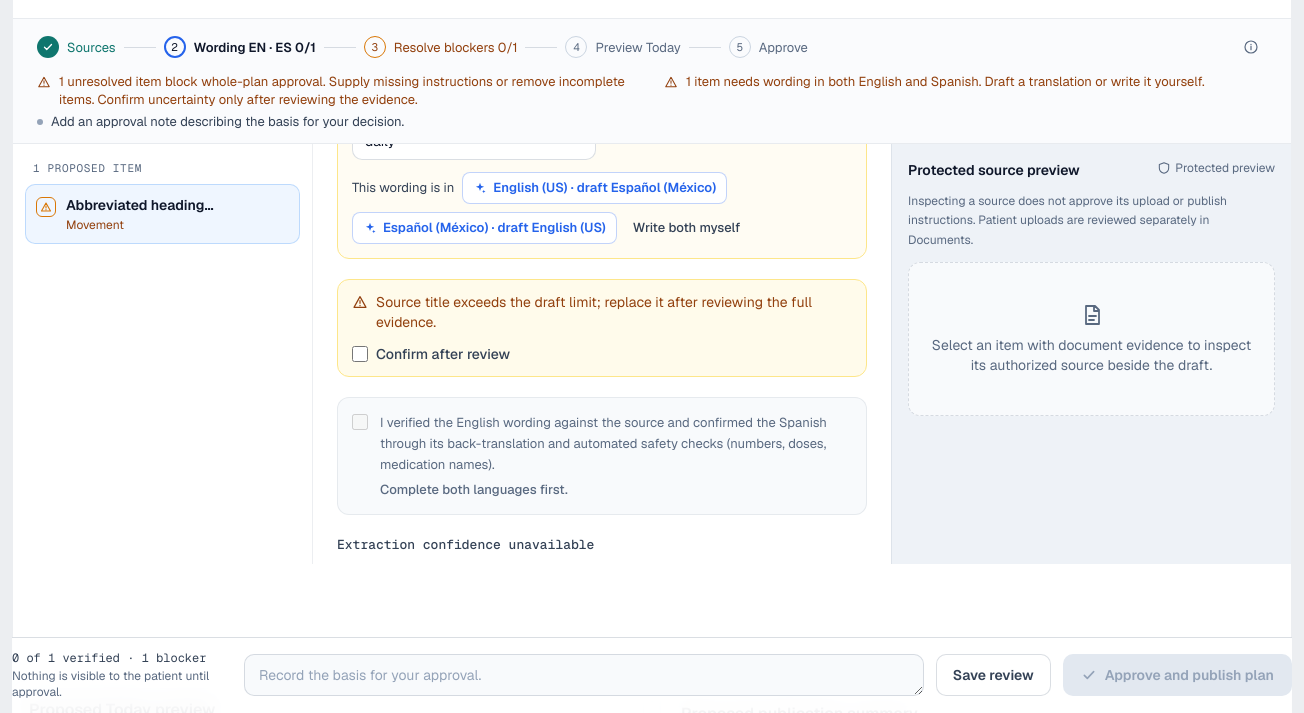
Scenario: CarePlanPanel › requires replacing an abbreviated source heading even after confirmation
(page scrolled)
Step 1. Click the checkbox labelled "Confirm after review" → (360, 354), box [352, 346, 368, 362]
(page scrolled)
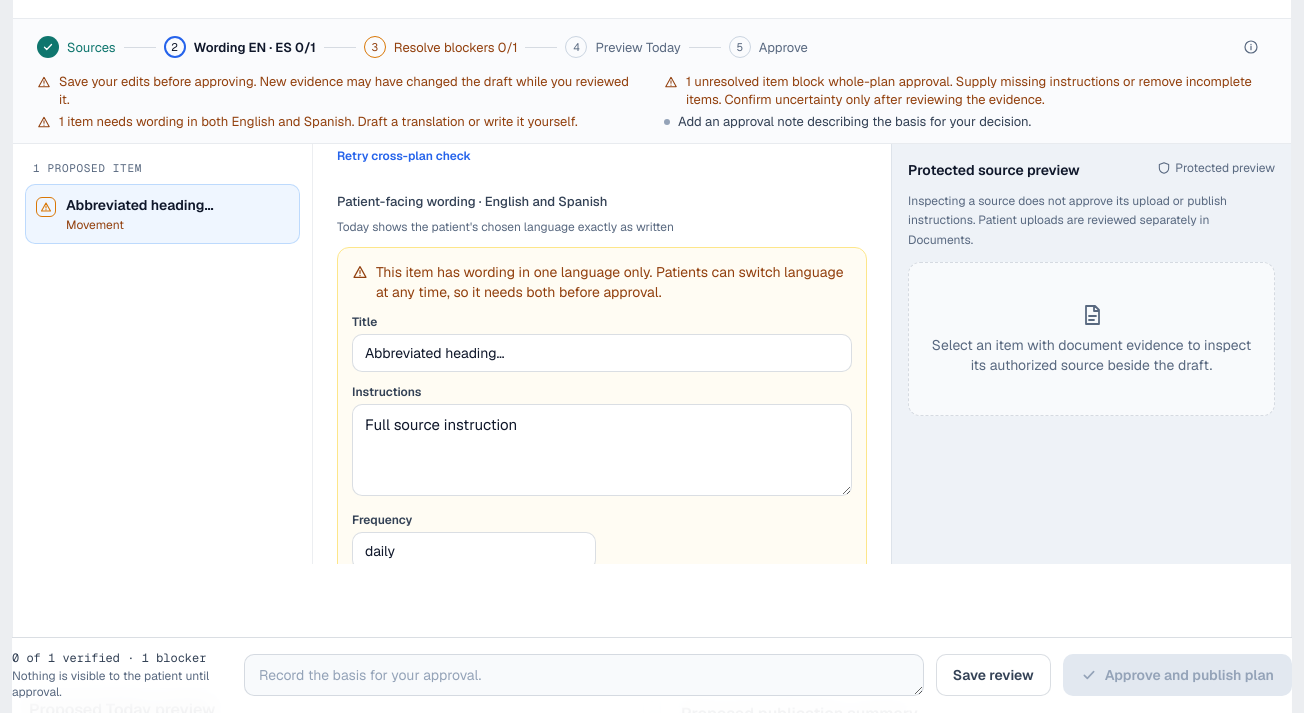
Check: the text "1 unresolved item" is shown, box [686, 73, 1267, 109]
Check: the button "Approve and publish plan" is disabled, box [1063, 654, 1292, 696]
Step 2. Replace the text in the field labelled "Title" with "Reviewed activity" → (602, 353), box [352, 334, 852, 372]
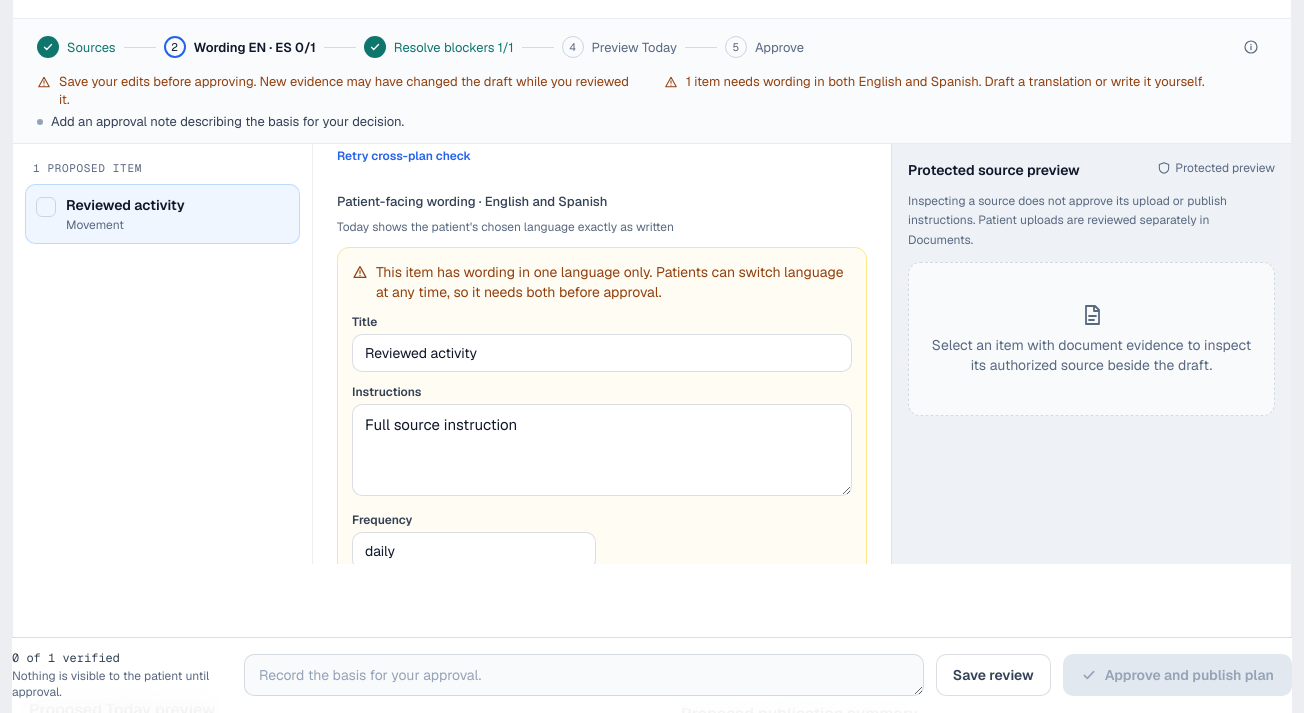
Check: the text "1 unresolved item" is gone
